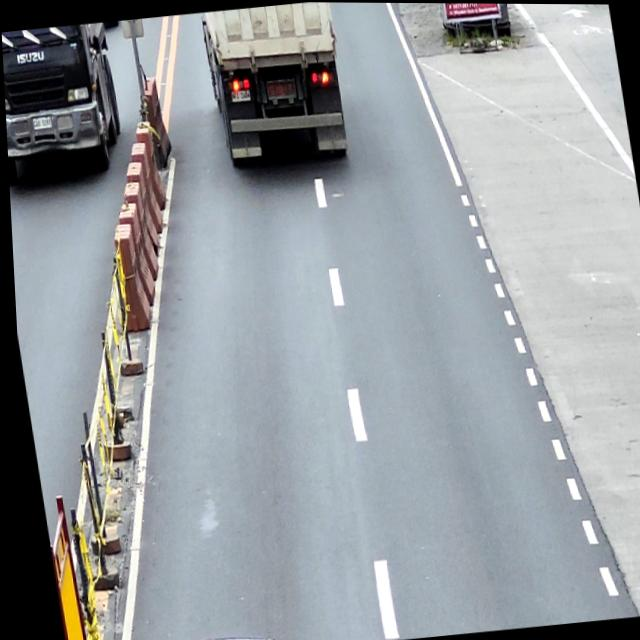License-Plate: (31, 116, 51, 130), (229, 88, 250, 101)
Truck: (198, 1, 353, 169), (1, 21, 125, 184)
